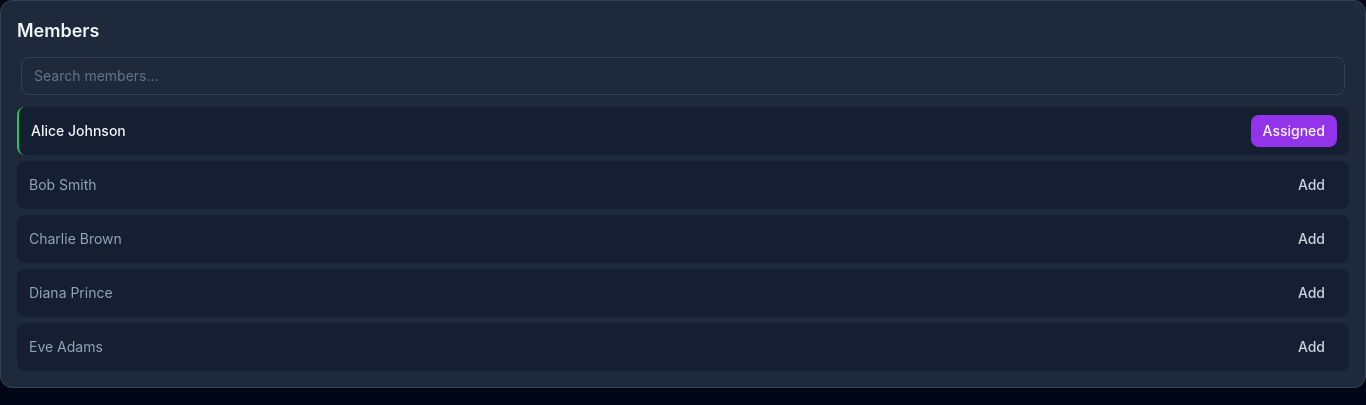
Test: AssignmentToggleList › search filtering › matches partial names anywhere in the string
In the field with placeholder "Search members...": (683, 76) x1=21 y1=57 x2=1345 y2=95, type "smith"
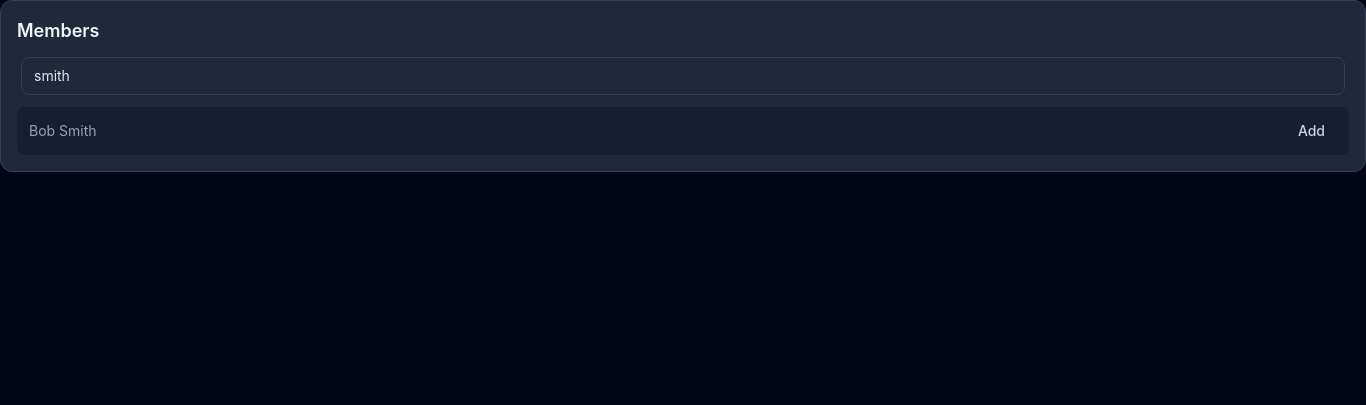
Check: the text "Bob Smith" is shown, box x1=29 y1=121 x2=97 y2=141
Check: the text "Alice Johnson" is gone
